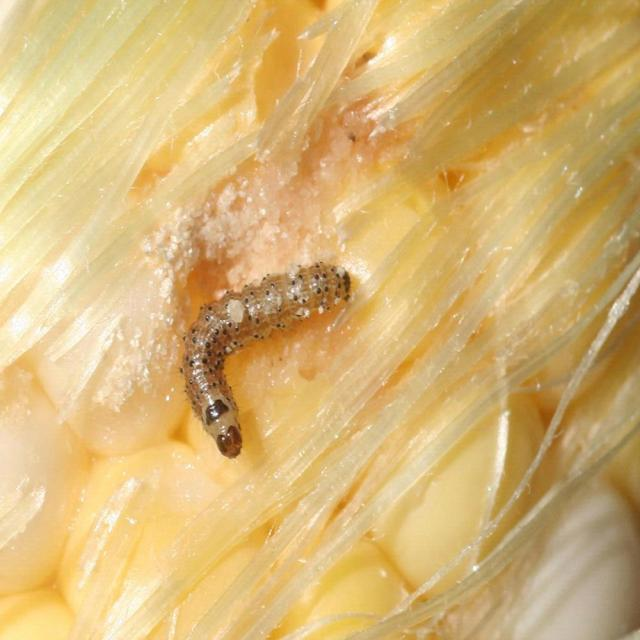Corn-earworm: (187, 258, 359, 460)
